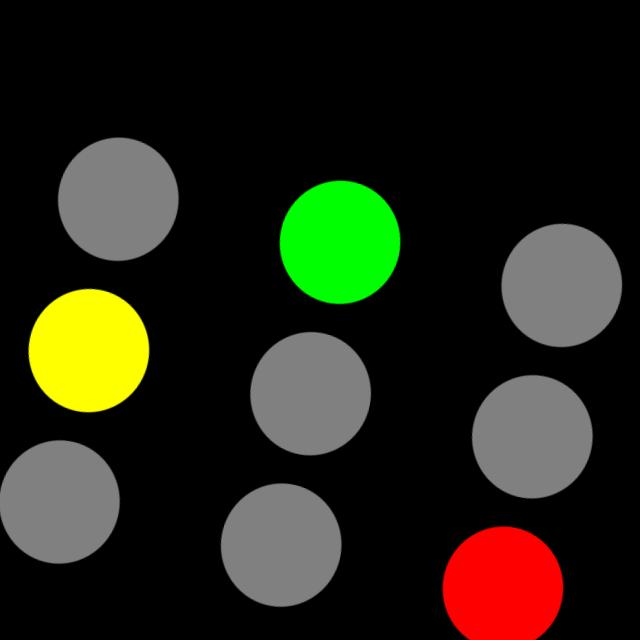green-lights: (266, 157, 412, 327)
red-lights: (424, 507, 582, 640)
yellow-lights: (13, 266, 156, 426)
